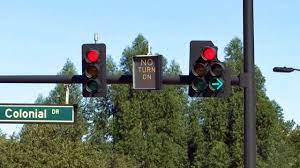red: (189, 41, 229, 98), (81, 43, 106, 98)
